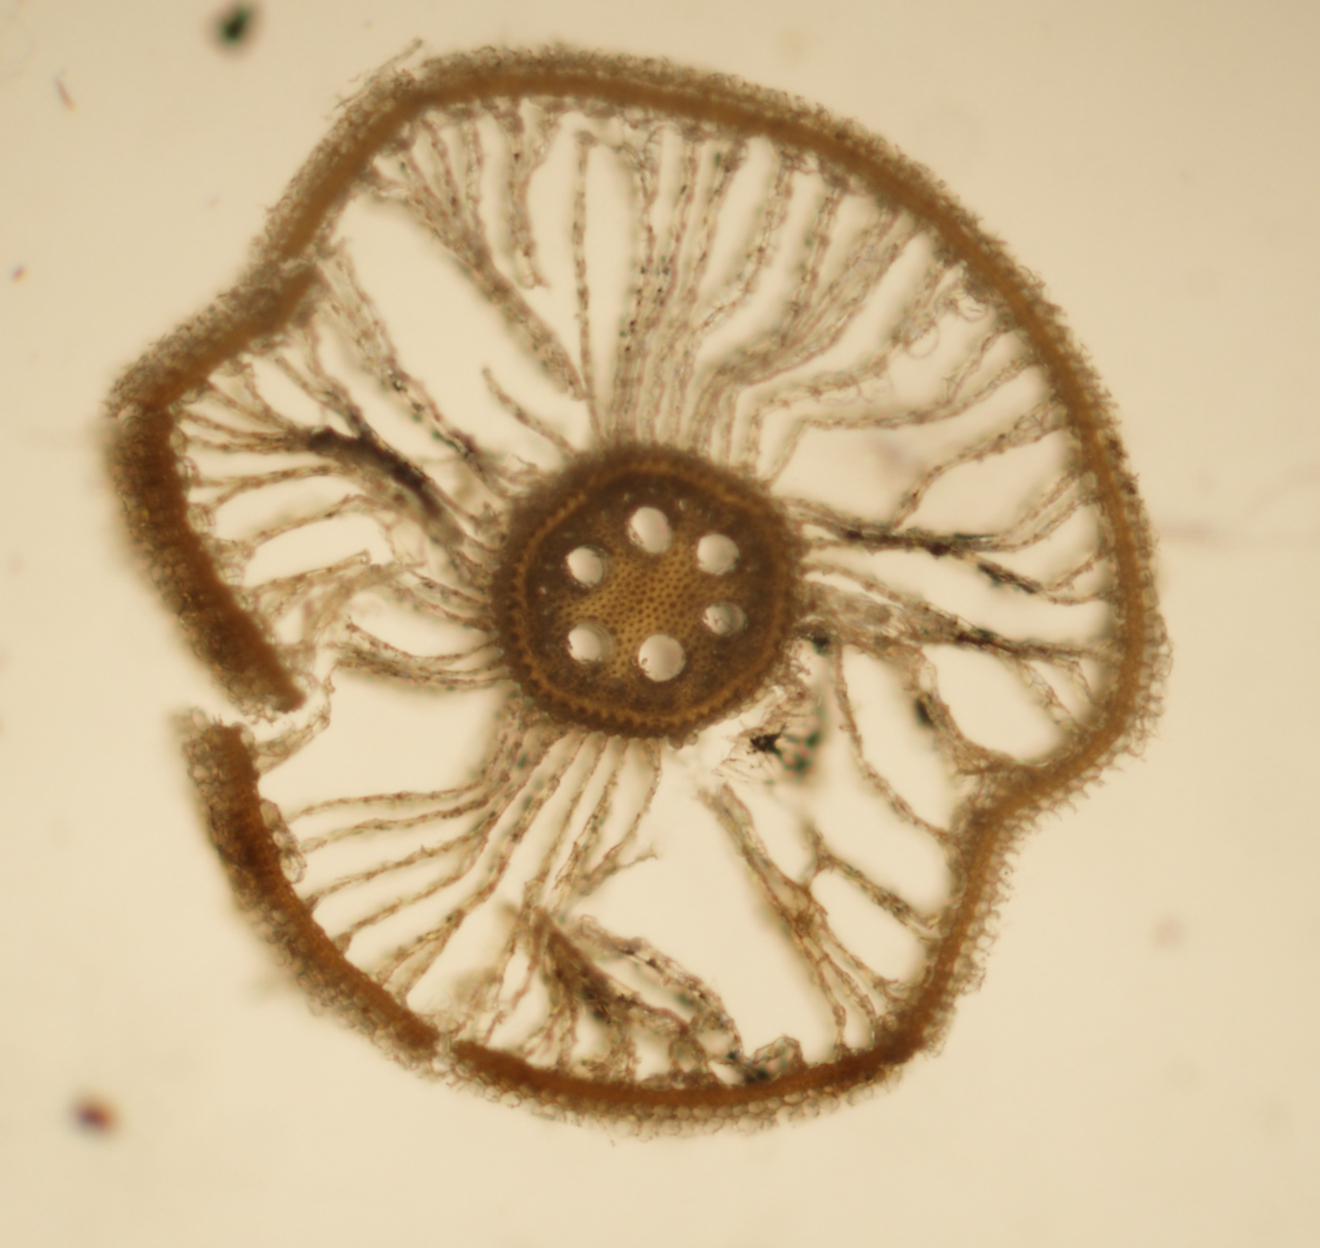lm: (638, 633, 688, 681), (627, 506, 672, 554), (696, 533, 740, 575), (564, 545, 604, 588), (702, 602, 749, 635), (567, 624, 601, 662)
